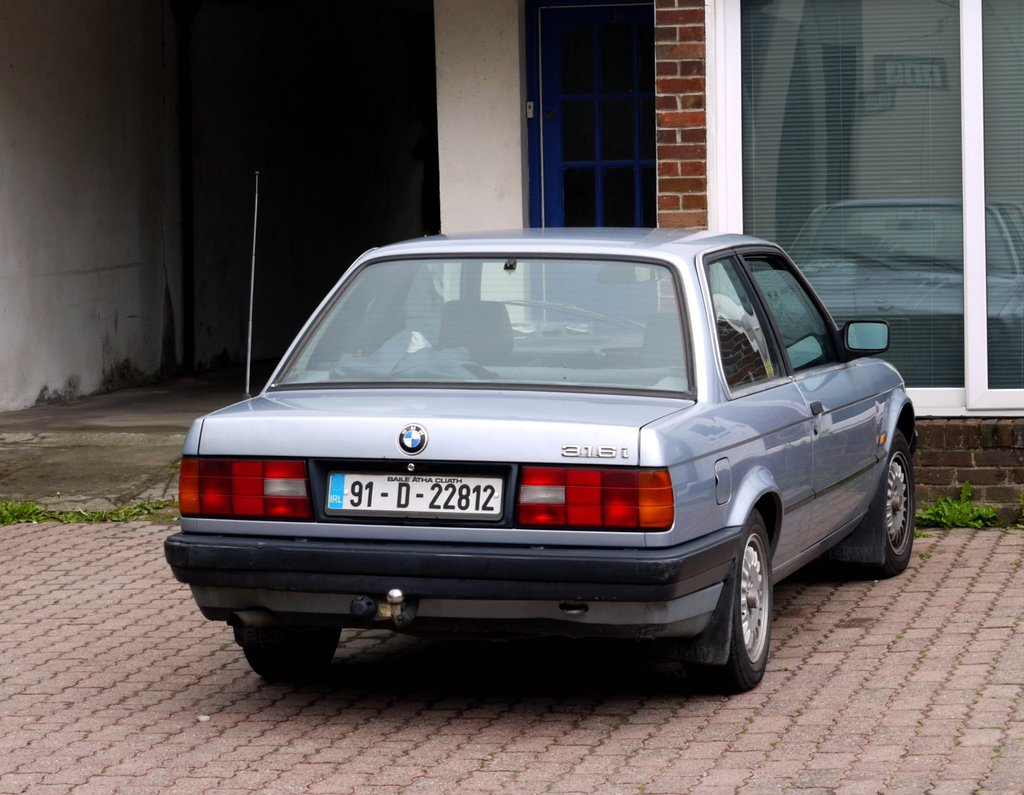license plate: (331, 467, 505, 516)
